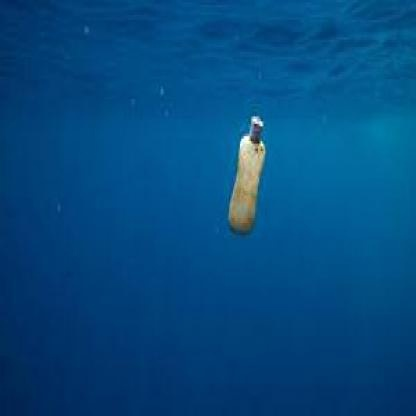pbottle: (218, 111, 272, 238)
